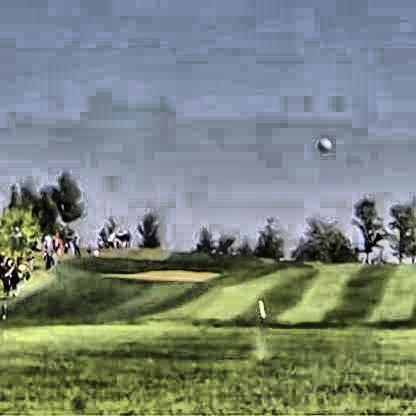golfball: (315, 134, 330, 149)
